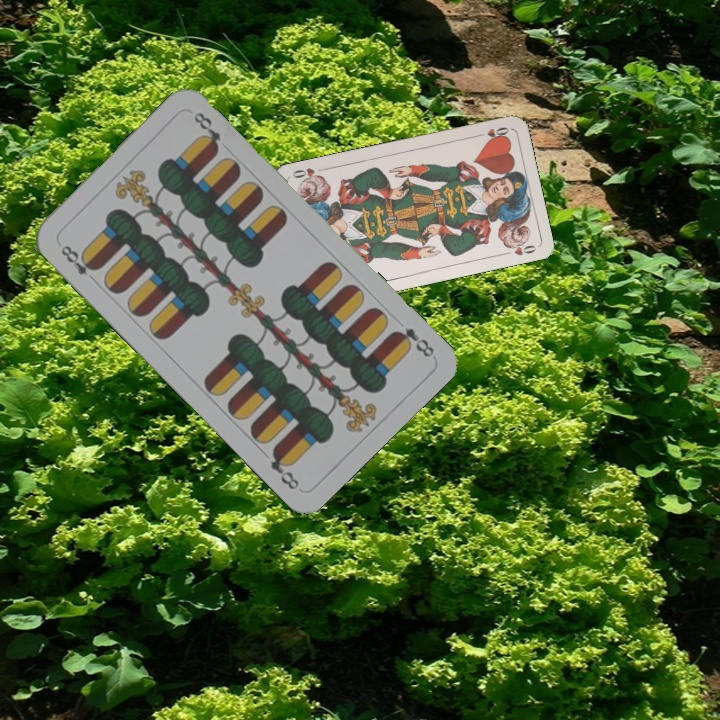E8: (56, 241, 101, 286), (389, 324, 437, 360)
HO: (472, 123, 512, 143)
